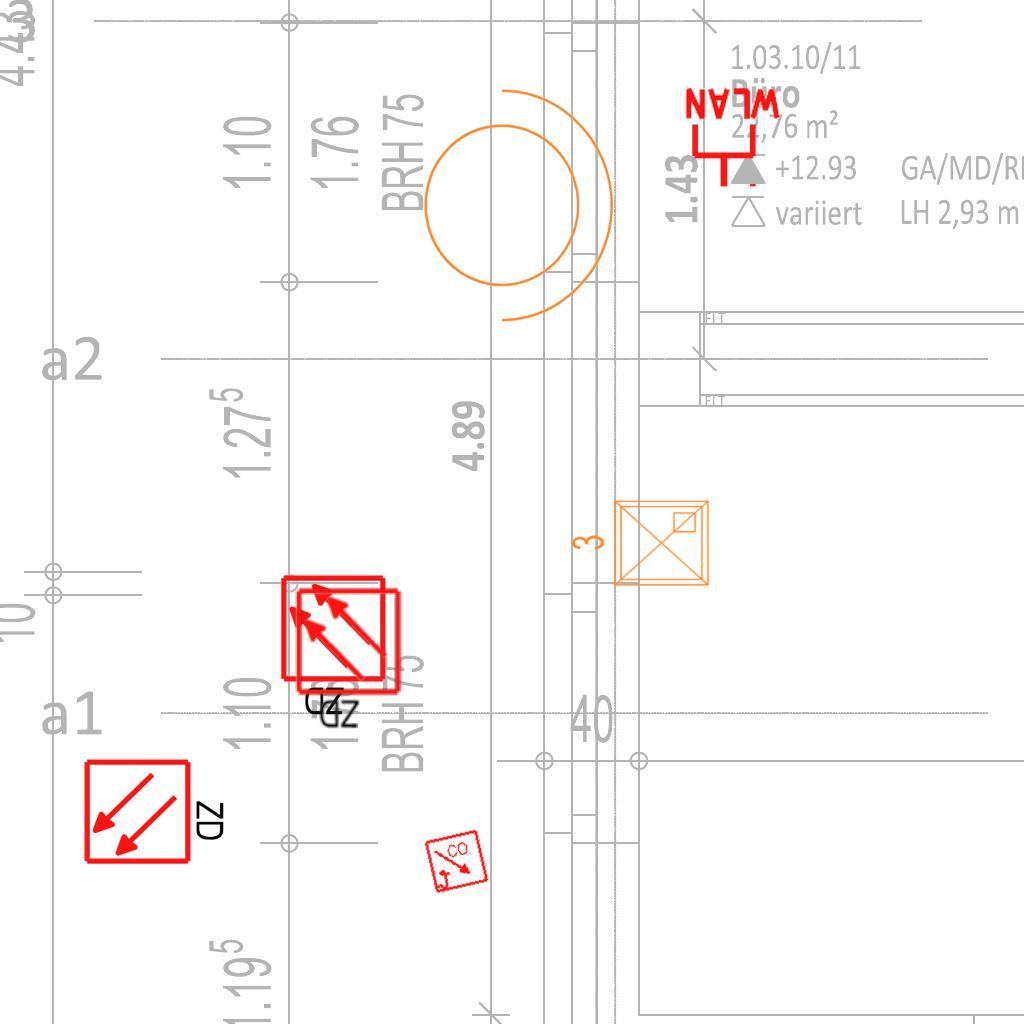Einbaudownlights_LED_Konferenzraeume: (566, 493, 716, 597)
ROA_Rauchmelder_optisch_mit_Signalgeber_(Sockelsirene): (423, 828, 491, 896)
Scheinwerfer_fuer_Alarmbeleuchtung: (399, 67, 624, 331)
WLAN: (681, 86, 785, 191)
ZD_Melder_in_Zwischendecke_mit_Revisionsoeffnung_mind_40_x_40_cm: (82, 753, 231, 867), (278, 573, 392, 722), (293, 586, 407, 735)
